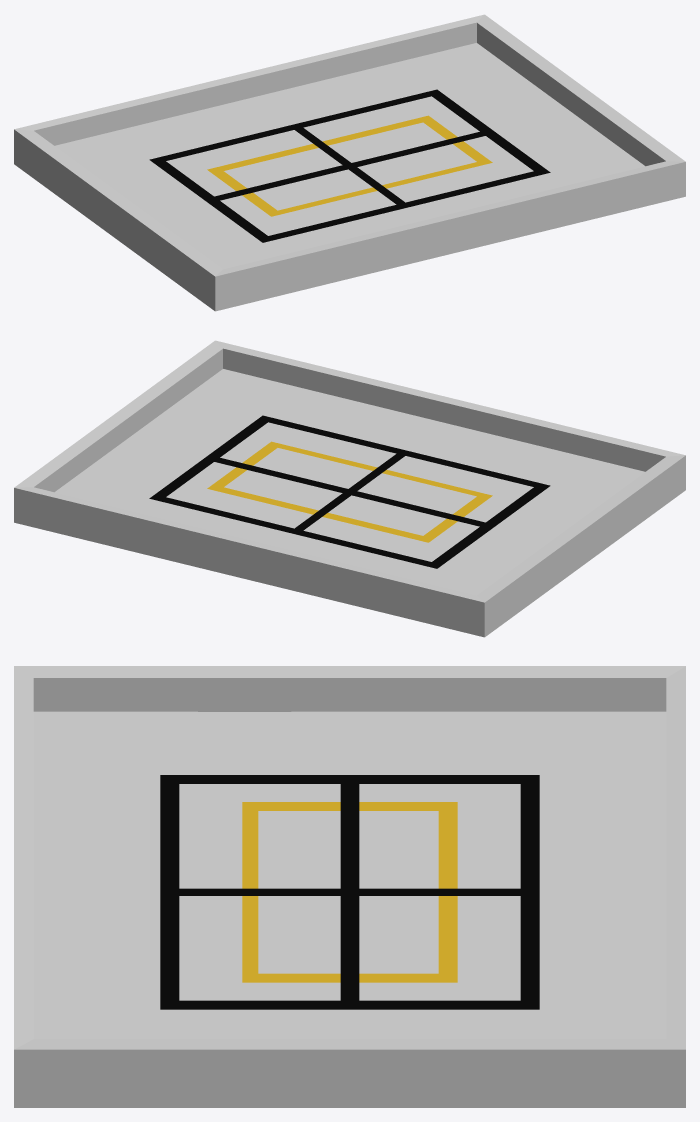
Rendered from HraciDeska-col.glb.
3 views of the same model, one above another, from view 1: azimuth 30°, elevation 25°; view 2: azimuth 150°, elevation 25°; view 3: azimuth 270°, elevation 25° (orthographic). The views are drawn at different scales.
Parts seen in each view (by area): view 1: Deska-col; view 2: Deska-col; view 3: Deska-col.
Boxes of the visible parts, <box> form: Deska-col: <box>14,14,685,311</box>; Deska-col: <box>14,340,685,637</box>; Deska-col: <box>14,666,685,1107</box>.
Size of the model in its own units: 178 by 12.64 by 132.
